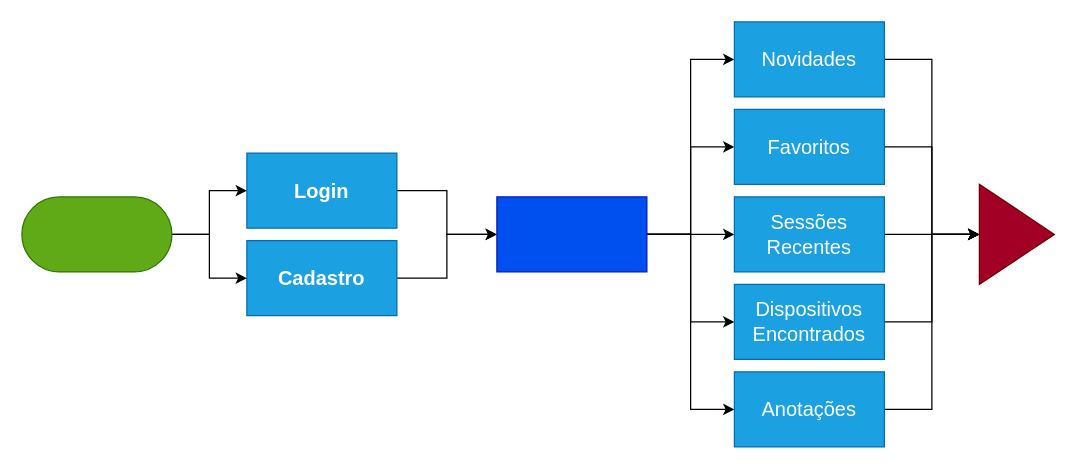
Some shapes in this 1076 by 469 pixel diagram are drawn without their labels. Here are the shapes that lost their labels. From the top down, the centre of each, then its label:
point (96, 234): Inicio
point (571, 234): Home
point (1016, 233): Fim
